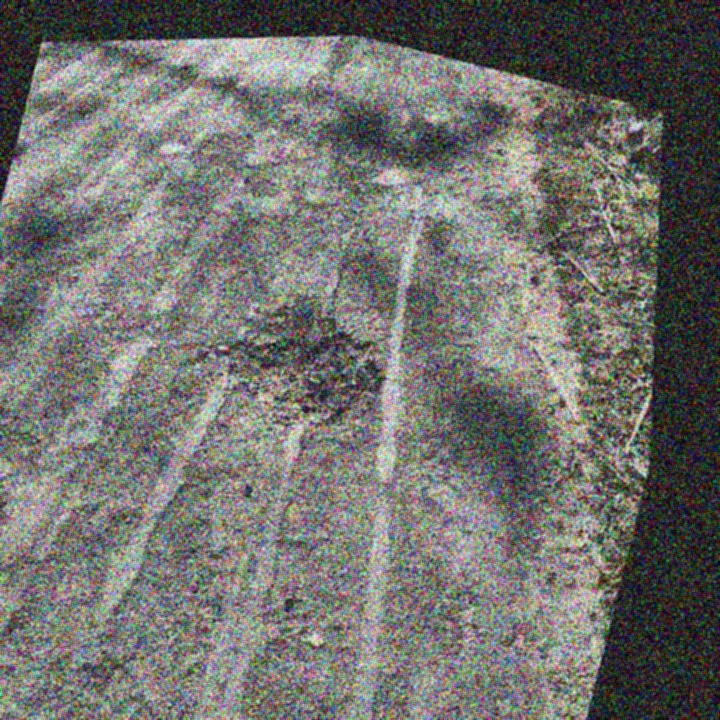pothole: (174, 261, 413, 479)
